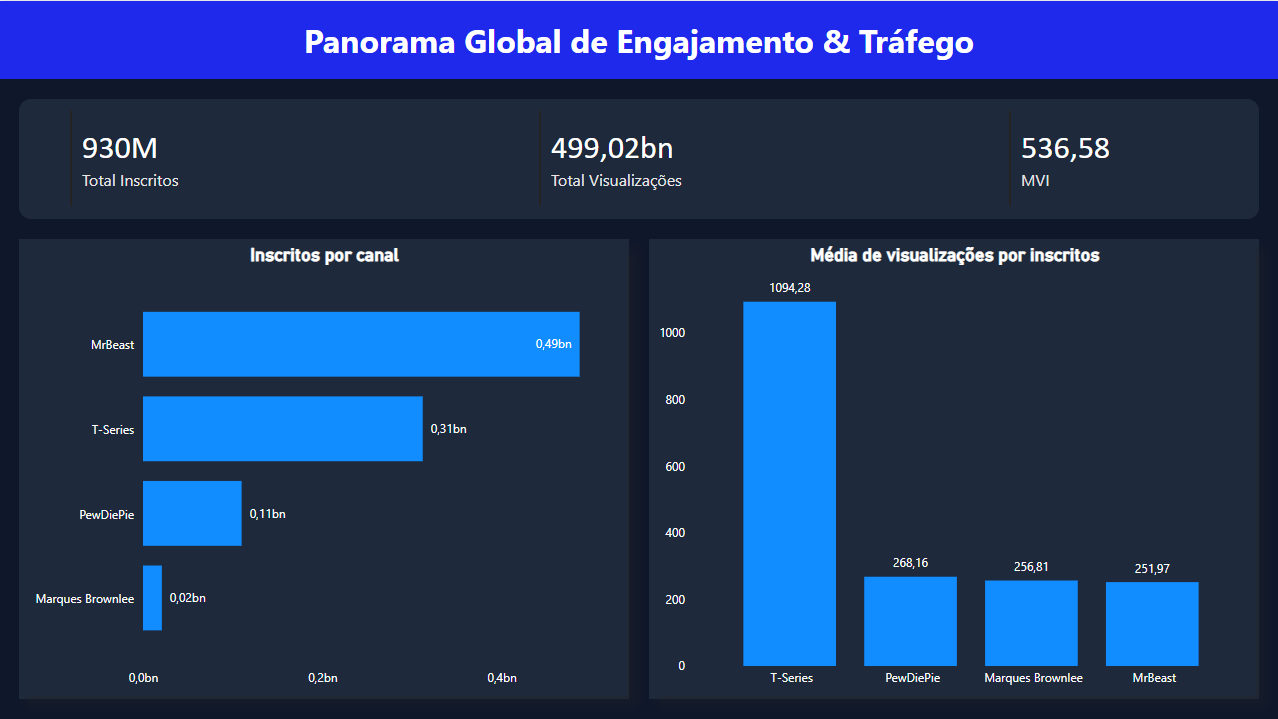

The dashboard page shown, as its layout file describes it:
{"tool":"powerbi","page":{"name":"Página 1","canvas":[1280,720],"ordinal":0},"visuals":[{"type":"cardVisual","fields":{"Data":["dataset.Total Inscritos"]},"box":[54.5,90.8,263.3,133.1],"z":0},{"type":"cardVisual","fields":{"Data":["dataset.Total Visualizações"]},"box":[523.5,90.8,263.3,133.1],"z":1000},{"type":"cardVisual","fields":{"Data":["dataset.MVI"]},"box":[992.5,90.8,263.3,133.1],"z":2000},{"type":"clusteredBarChart","title":"Inscritos por canal","fields":{"Category":["dataset.nome_canal"],"Y":["dataset.Total Inscritos"]},"box":[23.3,243.3,605,451.7],"z":3000},{"type":"clusteredColumnChart","title":"Média de visualizações por inscritos","fields":{"Category":["dataset.nome_canal"],"Y":["dataset.MVI"]},"box":[655,243.3,601.7,451.7],"z":4000},{"type":"textbox","box":[0,11.7,1280,55],"z":5000}]}

Visuals, with their boxes in screenshot pixels (x1, y1, x2, y2), scaled from the page's 1280x720 canvas onto the 1278x719 screenshot:
cardVisual - dataset.Total Inscritos: <region>54, 91, 317, 224</region>
cardVisual - dataset.Total Visualizações: <region>523, 91, 786, 224</region>
cardVisual - dataset.MVI: <region>991, 91, 1254, 224</region>
"Inscritos por canal" clusteredBarChart: <region>23, 243, 627, 694</region>
"Média de visualizações por inscritos" clusteredColumnChart: <region>654, 243, 1255, 694</region>
textbox: <region>0, 12, 1277, 67</region>
